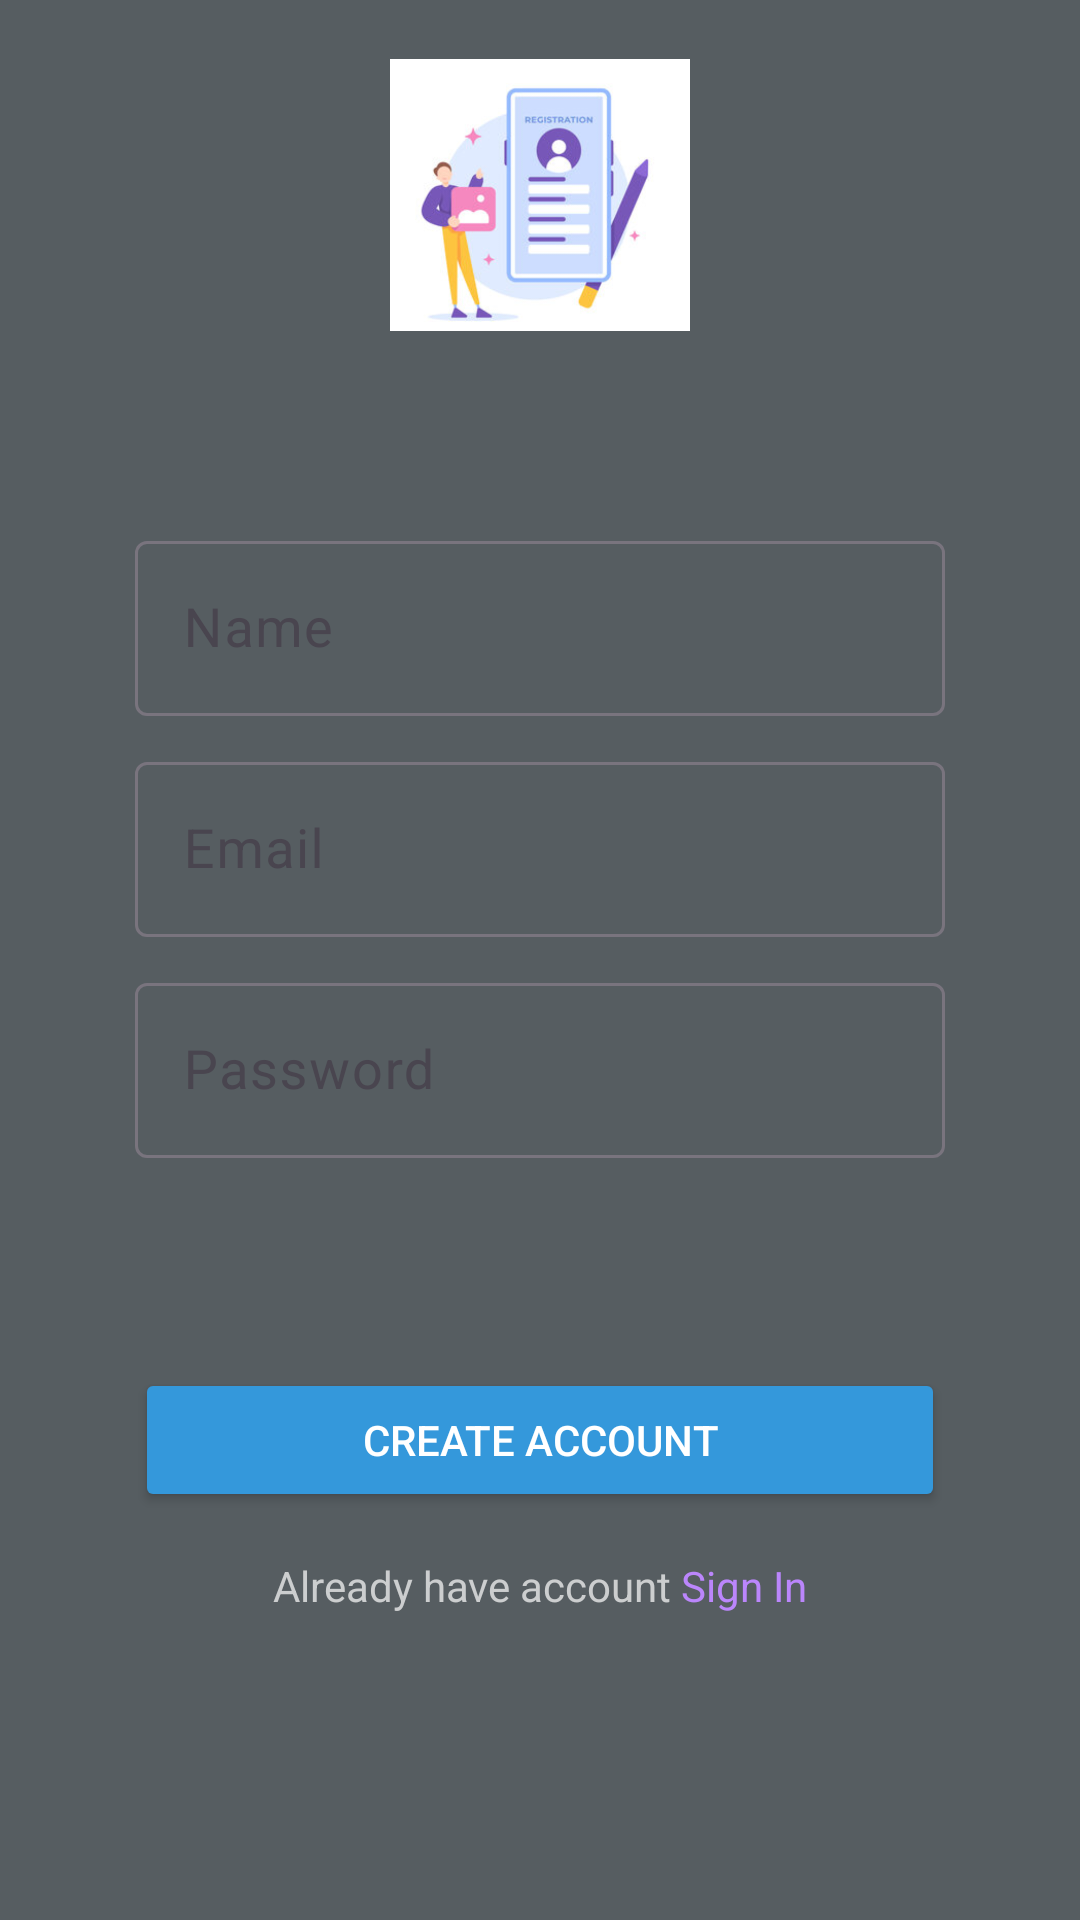

Screen size 1080 × 1920. Icon name, then its box in pixels as {"x1": x1, "y1": y1, "x2": x2, "y2": y2}:
signup: {"x1": 390, "y1": 59, "x2": 690, "y2": 331}
